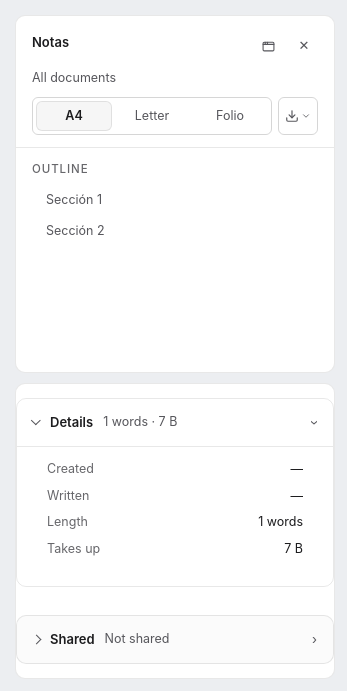
Test: the document's column › opens one part at a time
The width and height of the screenshot is (347, 691).
Click the heading "Shared Not shared": (110, 639) [50,631,170,647]
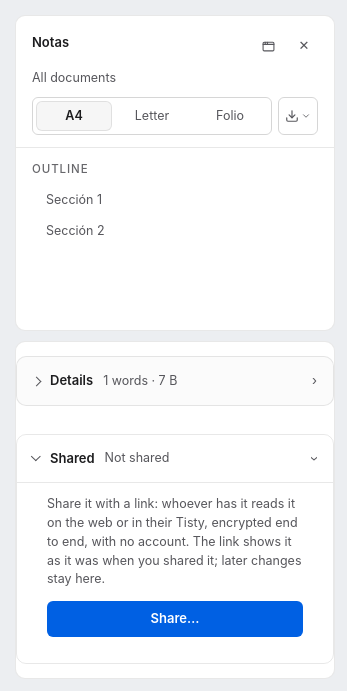
Now the text "Share it with a link: whoever has it reads it on the web or in their Tisty, encrypted end to end, with no account. The l" is shown, box [47,496,302,586]
